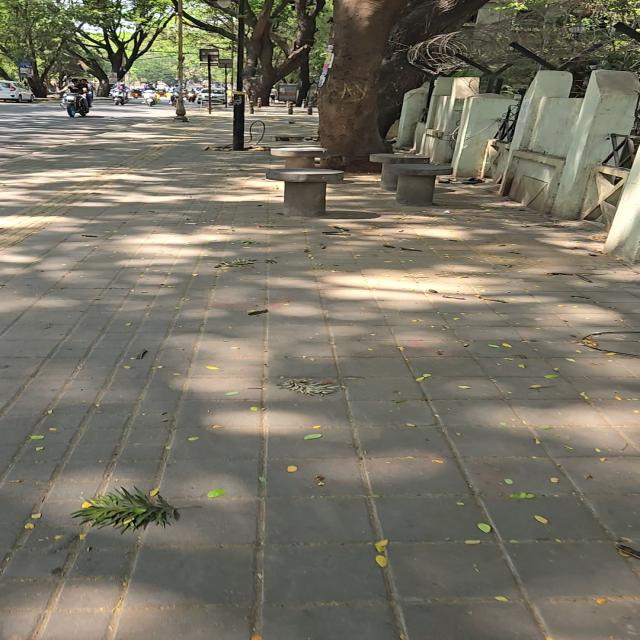obstacle: (267, 169, 344, 216), (389, 164, 452, 206), (370, 153, 429, 191), (233, 0, 245, 150), (174, 0, 188, 121), (271, 147, 327, 168), (208, 55, 211, 114), (224, 66, 228, 107)
